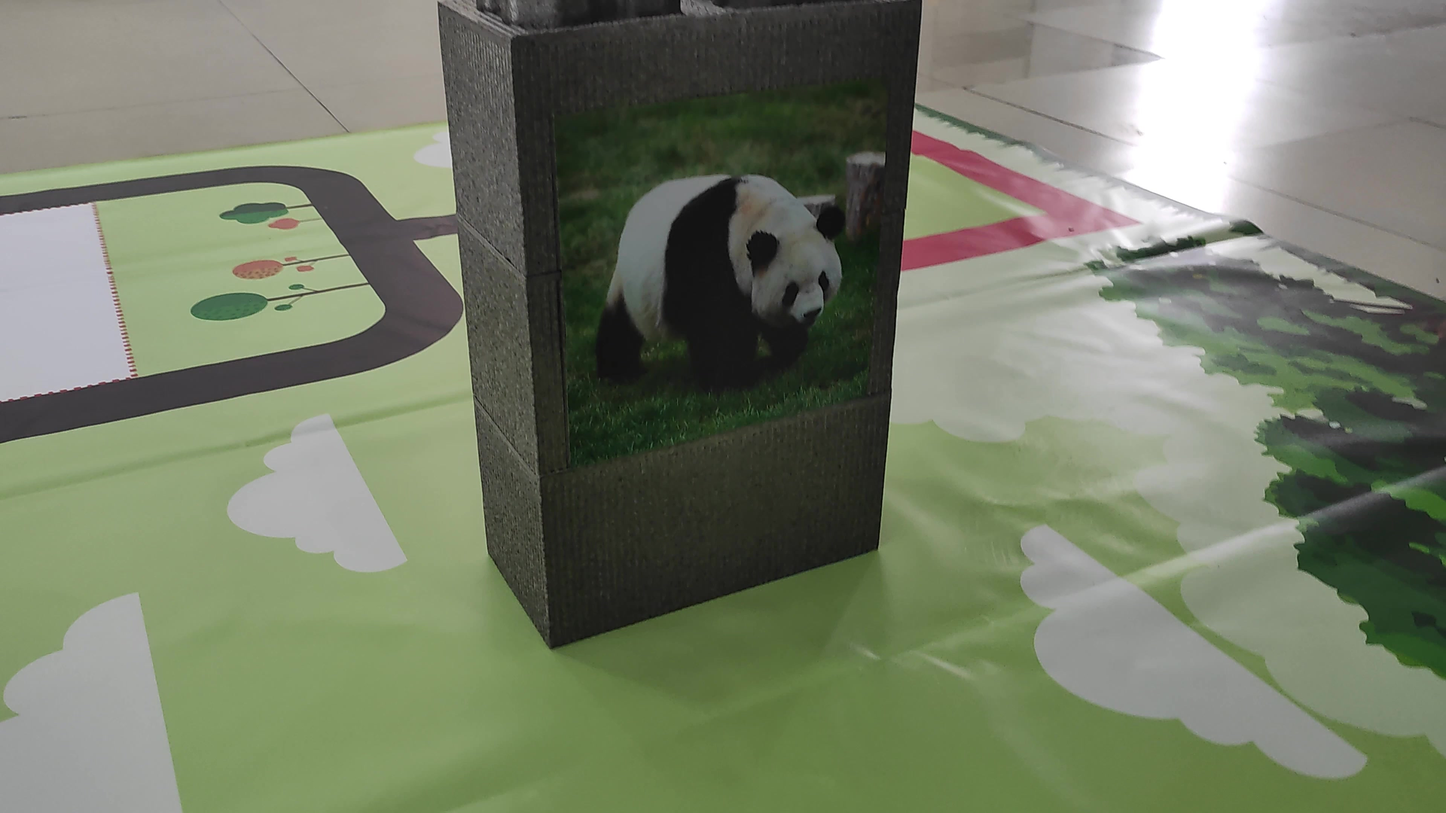panda: (560, 154, 887, 419)
